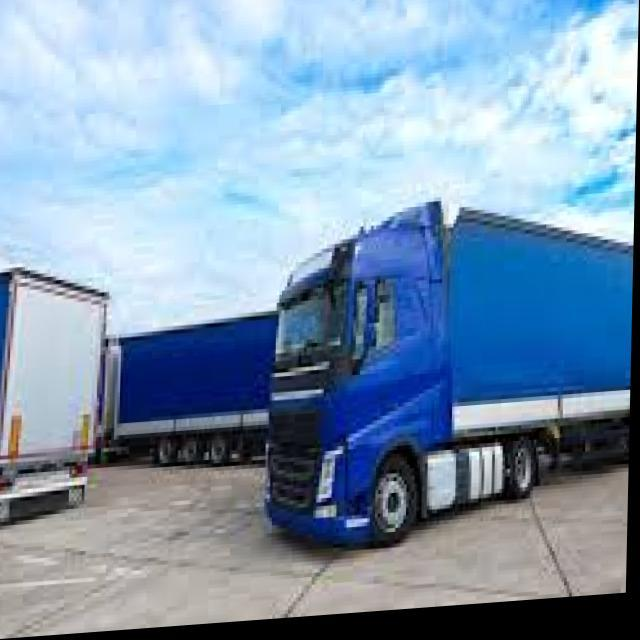covered: (264, 189, 636, 557)
